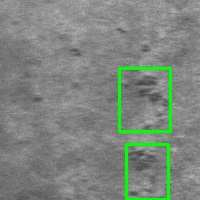rolled-in_scale: (119, 68, 170, 131), (126, 144, 168, 199)
